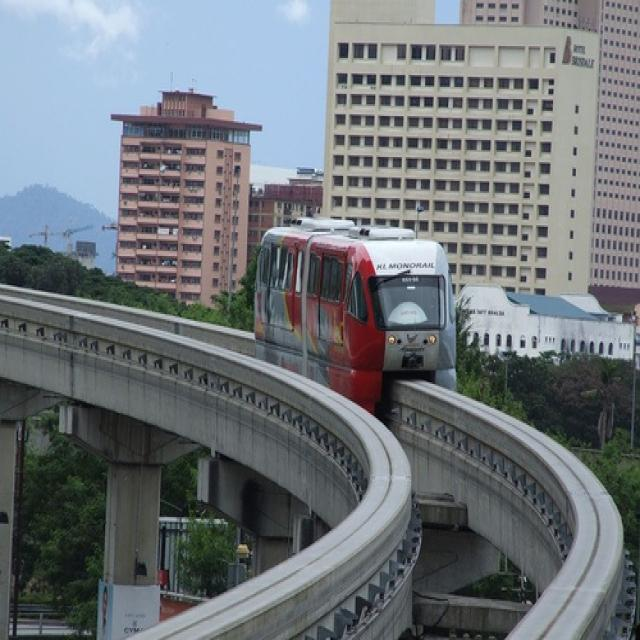train: (253, 218, 457, 420)
